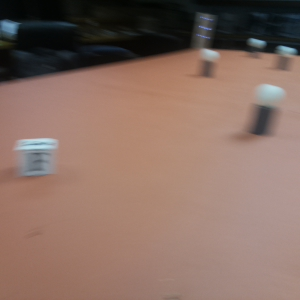blockF: (16, 136, 59, 179)
corner: (192, 10, 212, 50)
obstacle: (249, 80, 283, 140), (202, 48, 219, 79), (277, 44, 295, 71), (248, 36, 265, 60)
